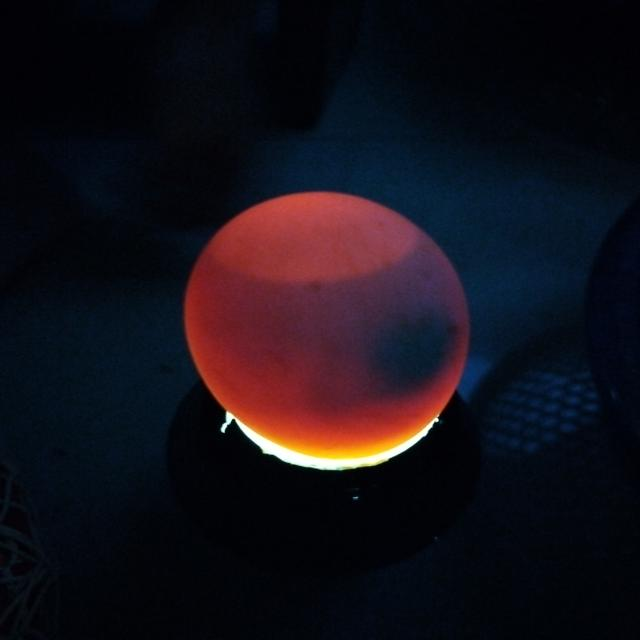Area Infectada: (360, 300, 468, 400)
